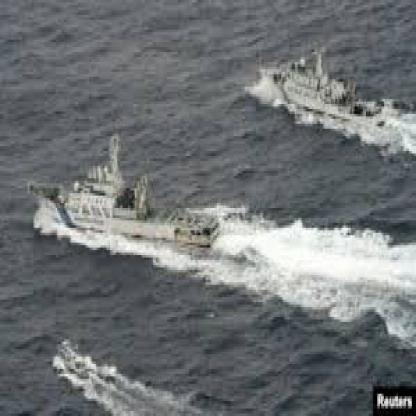fish-b: (13, 136, 233, 280)
